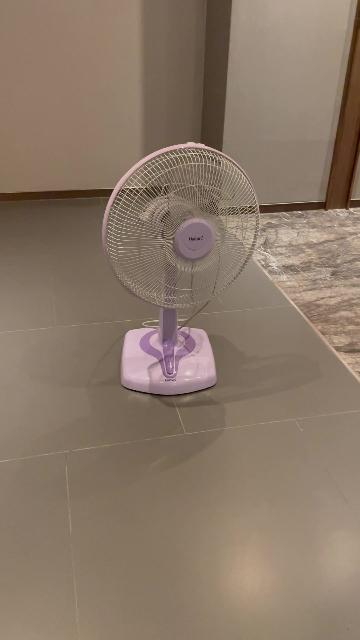Fan: (102, 143, 260, 397)
